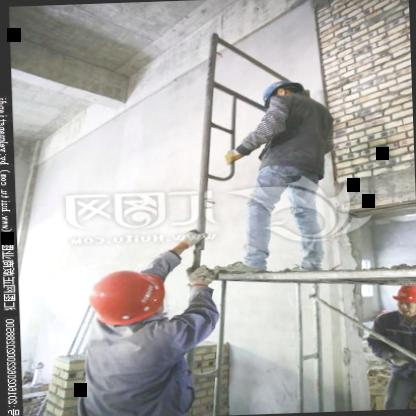helmet: (76, 266, 178, 347), (255, 79, 310, 112), (392, 279, 416, 317)
